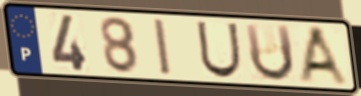4: (49, 11, 90, 74)
8: (97, 14, 139, 76)
A: (296, 24, 353, 89)
I: (151, 16, 175, 78)
U: (242, 22, 297, 84), (194, 19, 244, 80)
